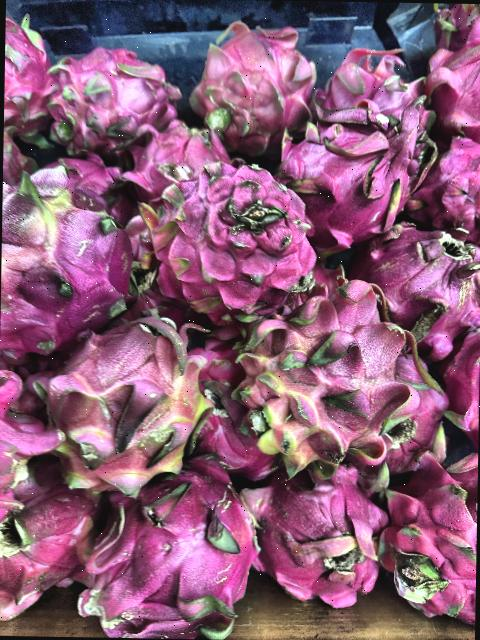buah-naga-belum-matang: (235, 276, 414, 471), (54, 319, 204, 501)
buah-naga-matang: (88, 472, 260, 636), (150, 158, 323, 318), (0, 165, 134, 351), (243, 461, 384, 606), (0, 431, 101, 620), (376, 439, 478, 622), (272, 115, 410, 248), (186, 20, 316, 150), (360, 220, 480, 348), (45, 45, 177, 146), (399, 122, 480, 230), (126, 118, 234, 192), (419, 13, 480, 135), (322, 46, 422, 116), (4, 18, 54, 136)
